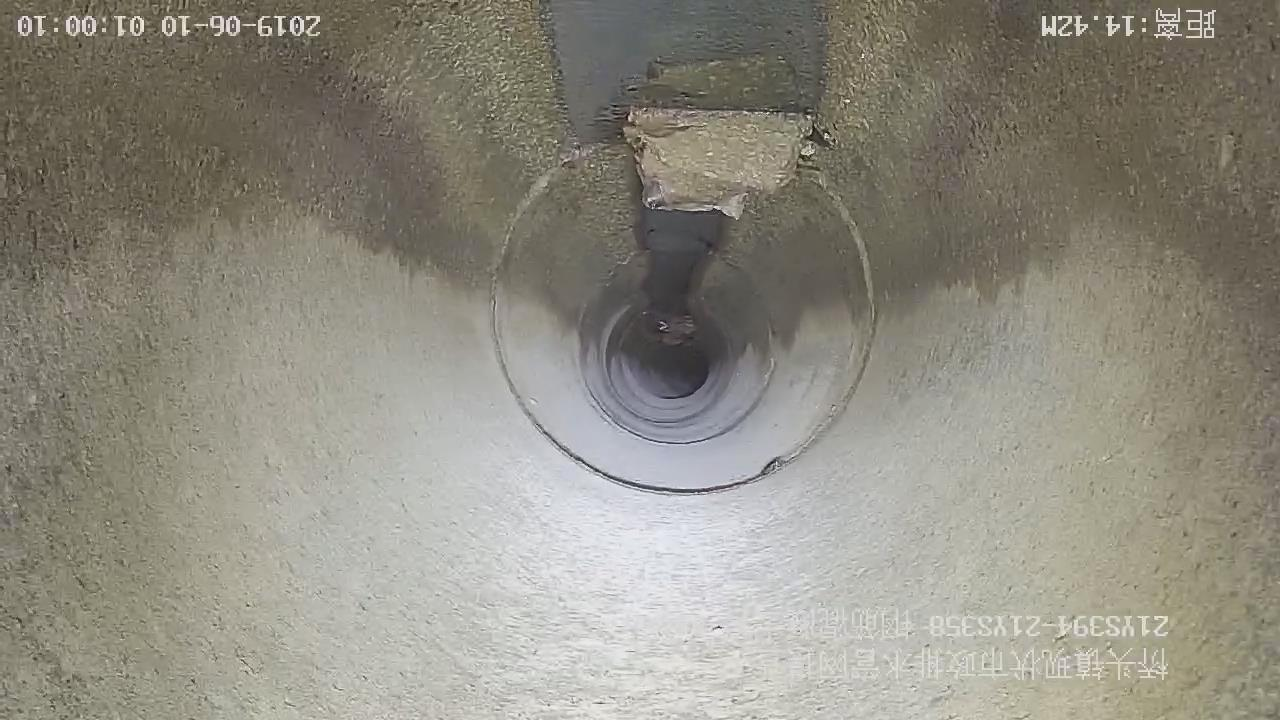ZAW: (624, 108, 811, 219)
